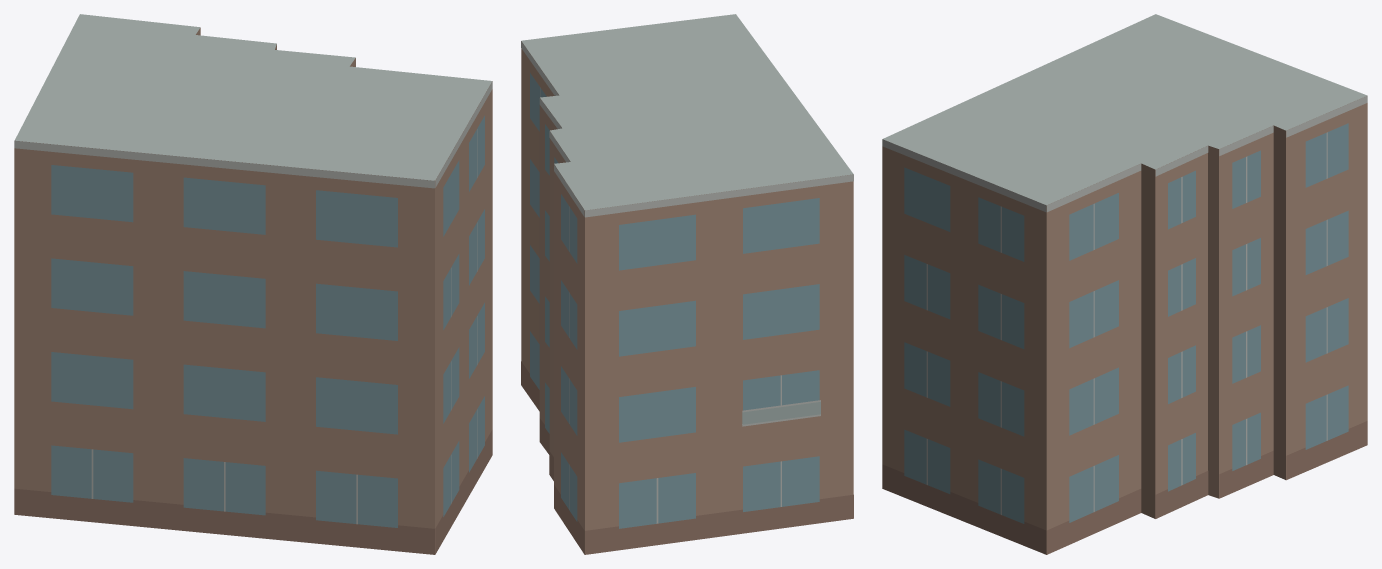
File: survey-upis-32728706.glb
3 views of the same model, side by side, from view 1: azimuth 30°, elevation 25°; view 2: azimuth 150°, elevation 25°; view 3: azimuth 270°, elevation 25° (orthographic). The views are drawn at different scales.
Parts seen in each view (by area): view 1: survey-upis-32728706.tmp; view 2: survey-upis-32728706.tmp; view 3: survey-upis-32728706.tmp.
Part boxes in pixels (x1,y1,x2,y2): survey-upis-32728706.tmp: [14, 14, 492, 554]; survey-upis-32728706.tmp: [521, 14, 853, 554]; survey-upis-32728706.tmp: [882, 14, 1367, 554].
Bounding box in the file's own units: 13.98 × 11.9 × 14.98.
